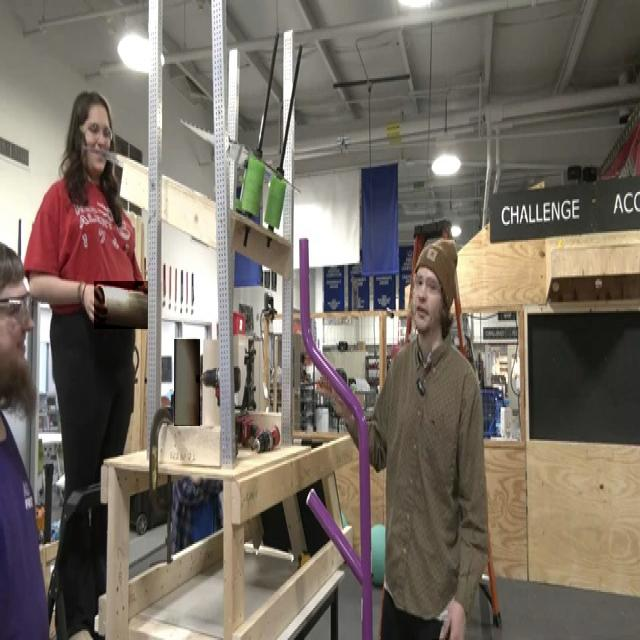Coral: (94, 281, 148, 329), (174, 339, 200, 426)
